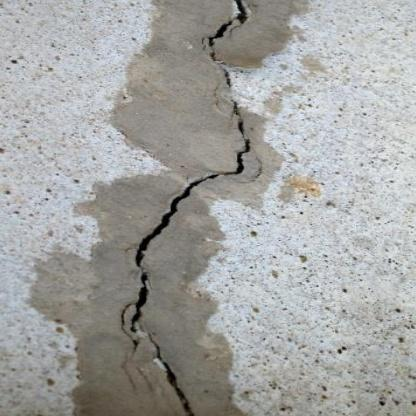Cracks: (118, 97, 267, 416), (199, 0, 253, 92)
